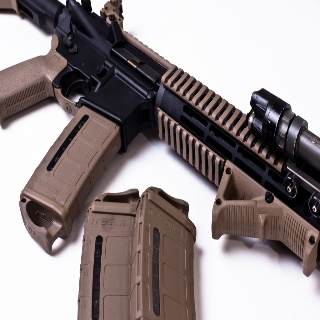rifle: (1, 1, 320, 279)
